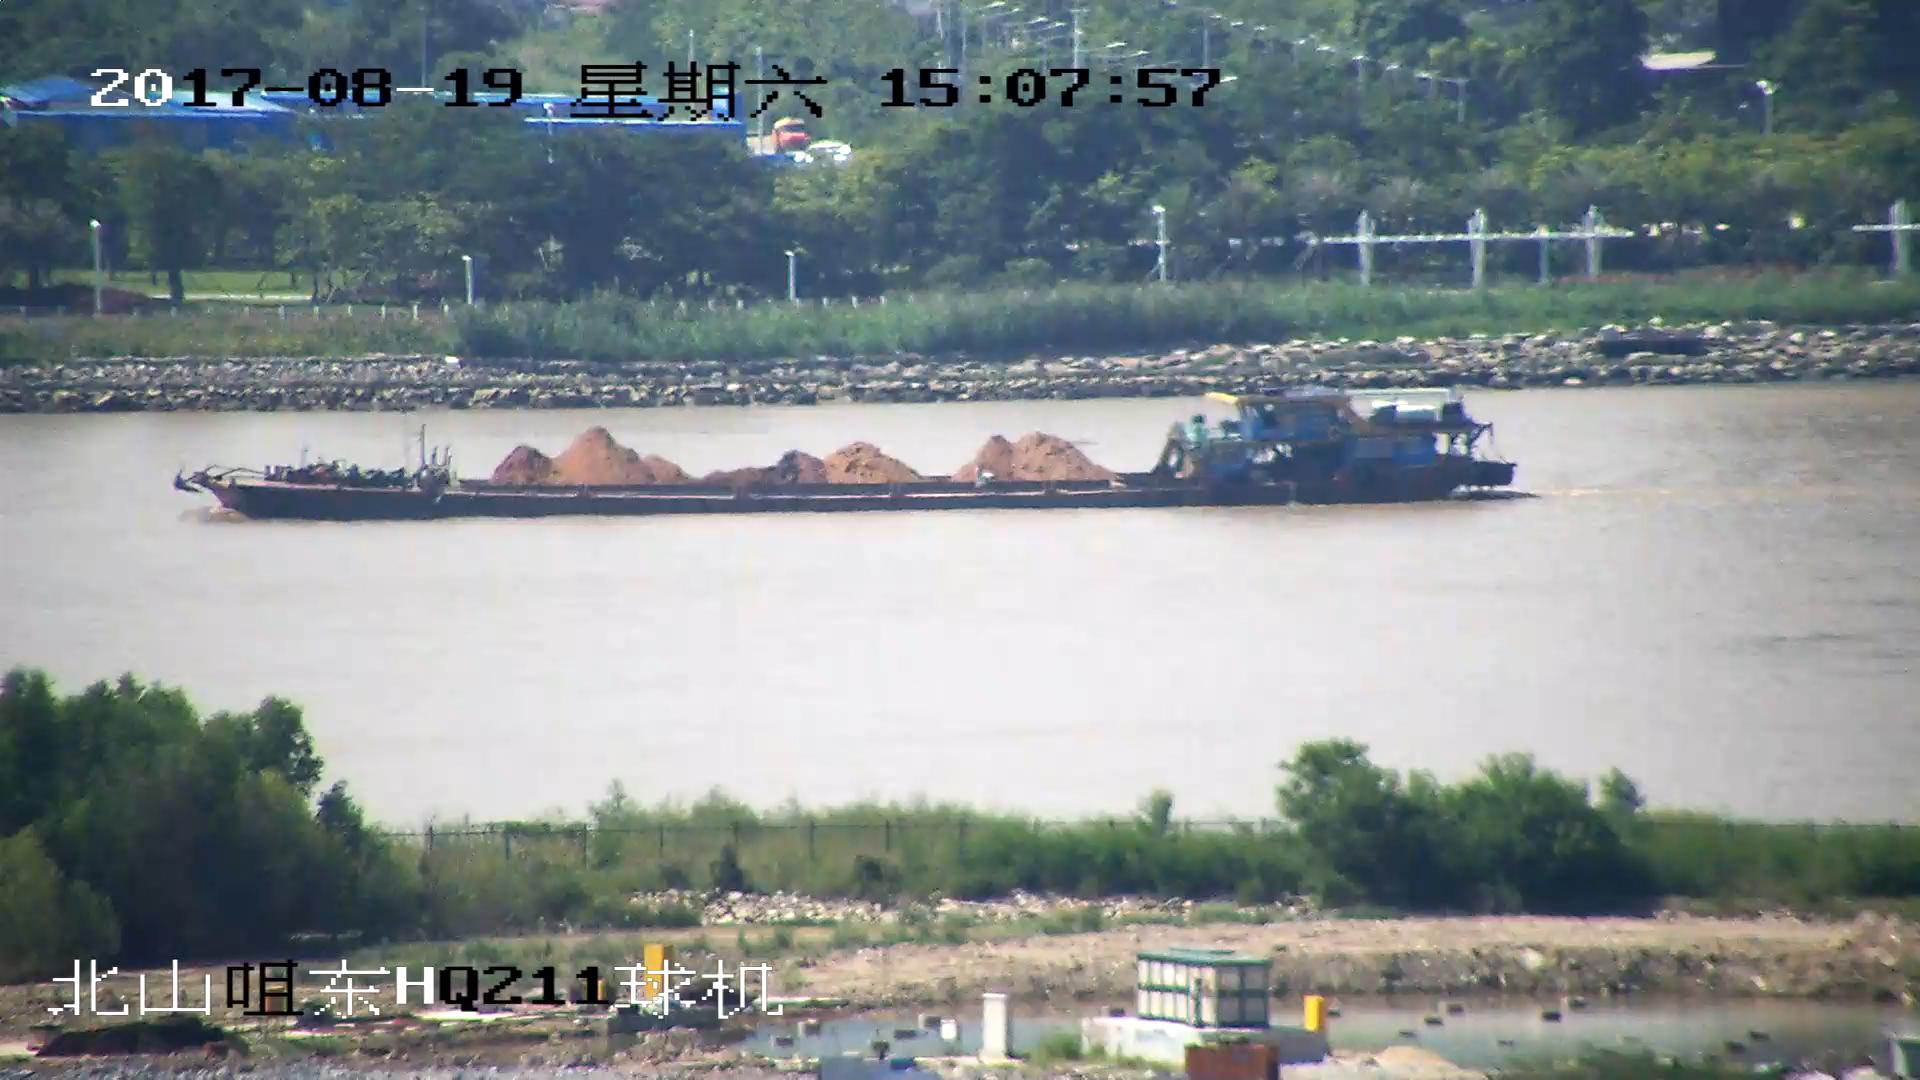ore carrier: (176, 387, 1517, 525)
